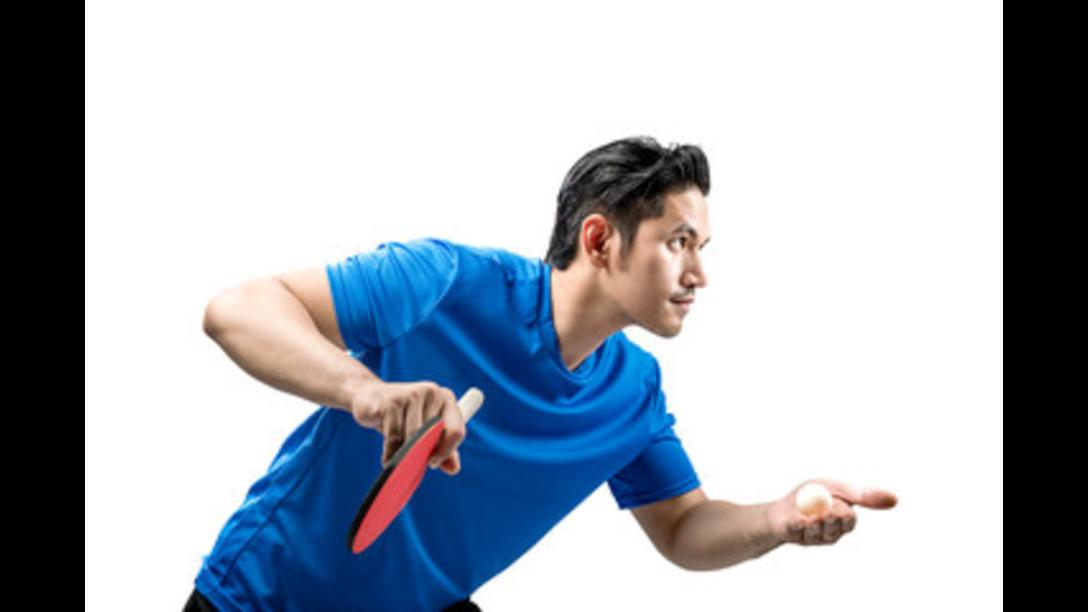Table-Tennis-Ball: (797, 483, 831, 513)
